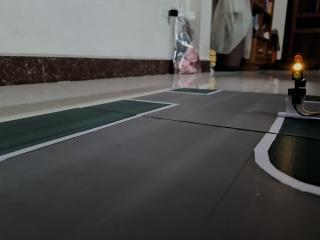yellow: (287, 48, 312, 85)
